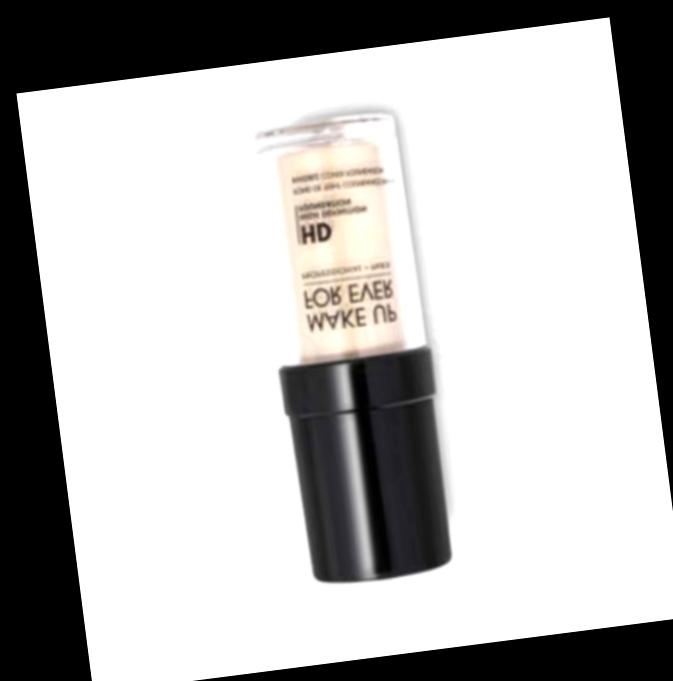cosmetic: (242, 107, 462, 589)
